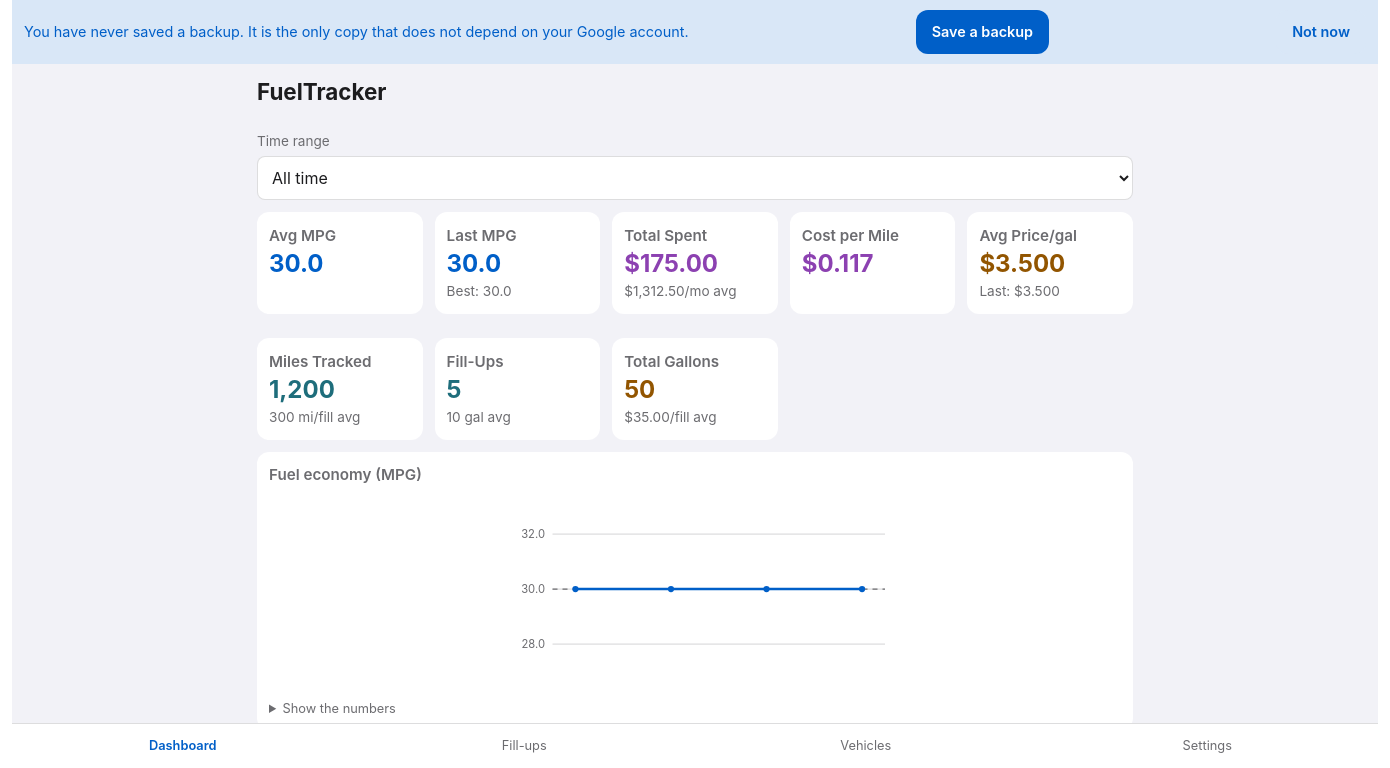
Test case: the backup reminder › dismissing snoozes rather than silencing
The width and height of the screenshot is (1390, 768).
Click the button "Not now".
click(1321, 32)  # box top-left (1276, 10), bottom-right (1366, 54)
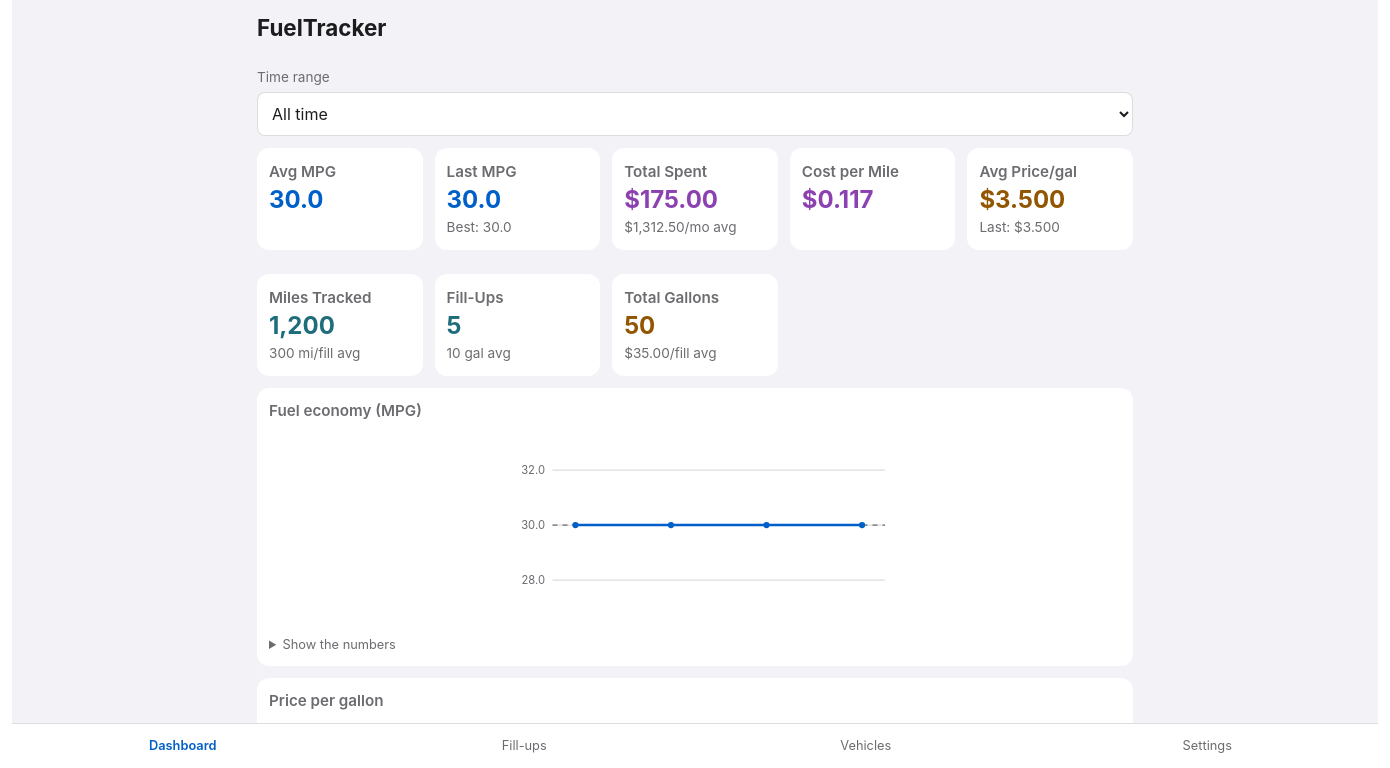
Result: the button "Save a backup" is gone
